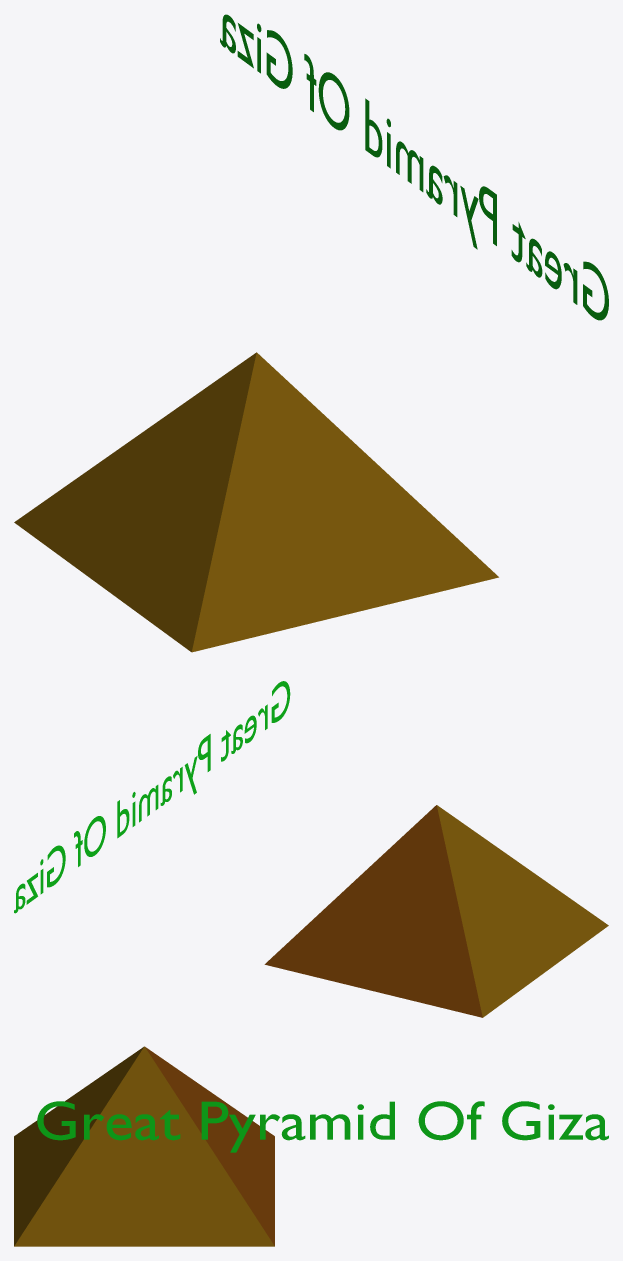
File: greatpyramidofgiza.glb
The picture shows the model from 3 angles, top to bottom: view 1: azimuth 30°, elevation 25°; view 2: azimuth 150°, elevation 25°; view 3: azimuth 270°, elevation 25°; orthographic projection. The views are drawn at different scales.
Parts seen in each view (by area): view 1: Plane, Text; view 2: Plane.001, Plane, Text; view 3: Plane.002, Text, Plane, Plane.001.
Boxes of the visible parts, left/top/right/bottom form: Plane: left=14, top=352, right=498, bottom=652; Text: left=220, top=14, right=608, bottom=320; Plane.001: left=264, top=805, right=482, bottom=1017; Plane: left=437, top=805, right=608, bottom=1017; Text: left=14, top=681, right=290, bottom=913; Plane.002: left=14, top=1046, right=274, bottom=1246; Text: left=37, top=1101, right=608, bottom=1152; Plane: left=14, top=1047, right=143, bottom=1245; Plane.001: left=145, top=1047, right=274, bottom=1245.
Bounding box in the file's own units: 5.97 × 3.41 × 9.67.
